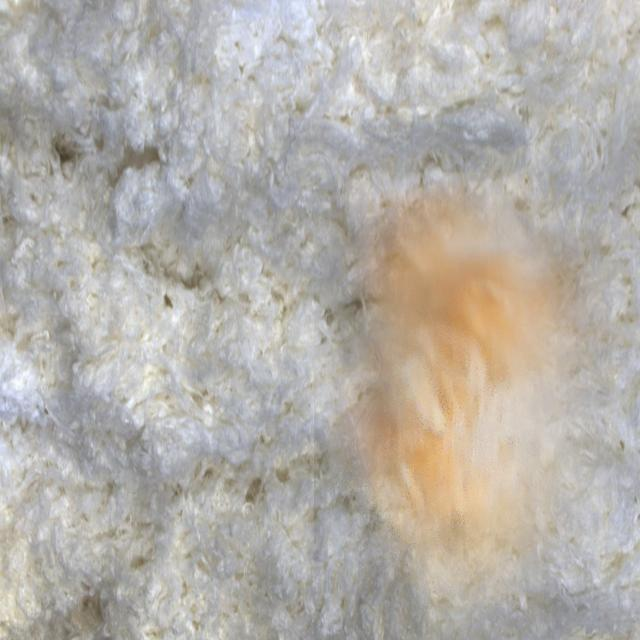dust: (314, 172, 617, 640)
